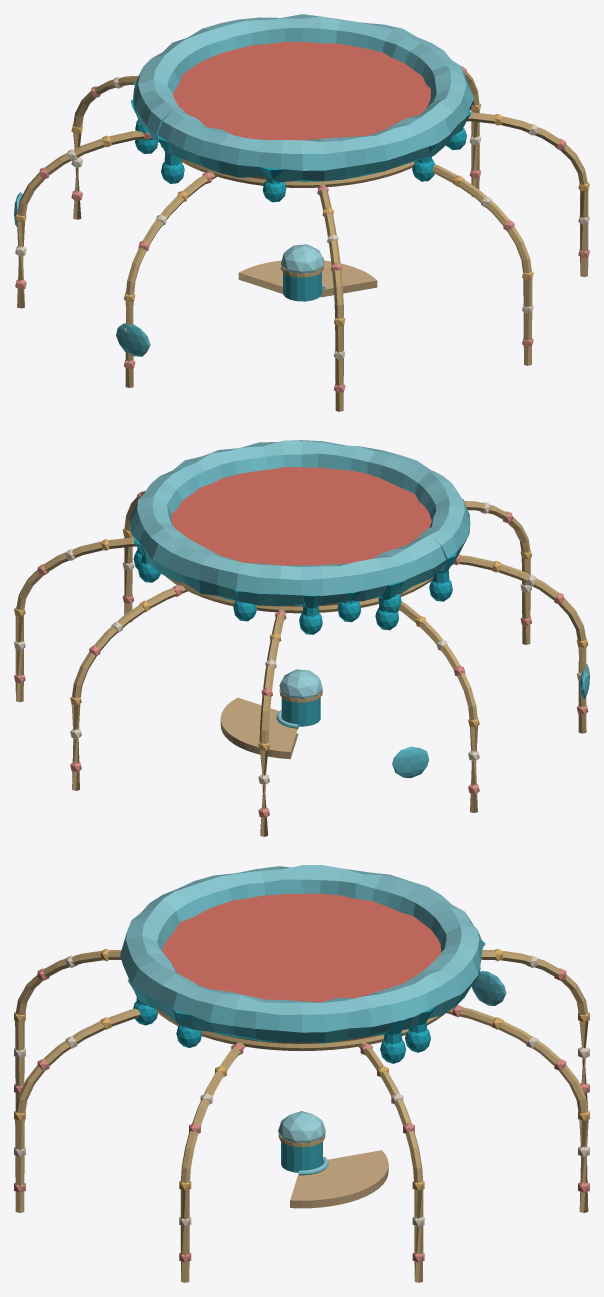
The model's file is goo_jar_trim_4_top@beach.fbx.
3 renders of one model, top to bottom at view 1: azimuth 30°, elevation 25°; view 2: azimuth 150°, elevation 25°; view 3: azimuth 270°, elevation 25°, orthographic. The views are drawn at different scales.
Parts seen in each view (by area): view 1: goo_jar_trim_4_top; view 2: goo_jar_trim_4_top; view 3: goo_jar_trim_4_top.
Boxes of the visible parts, x1,y1,x2,y2 form: goo_jar_trim_4_top: [14, 14, 589, 411]; goo_jar_trim_4_top: [14, 440, 589, 836]; goo_jar_trim_4_top: [14, 865, 589, 1282].
Size of the model in its own units: 41.18 by 18.79 by 40.91.
